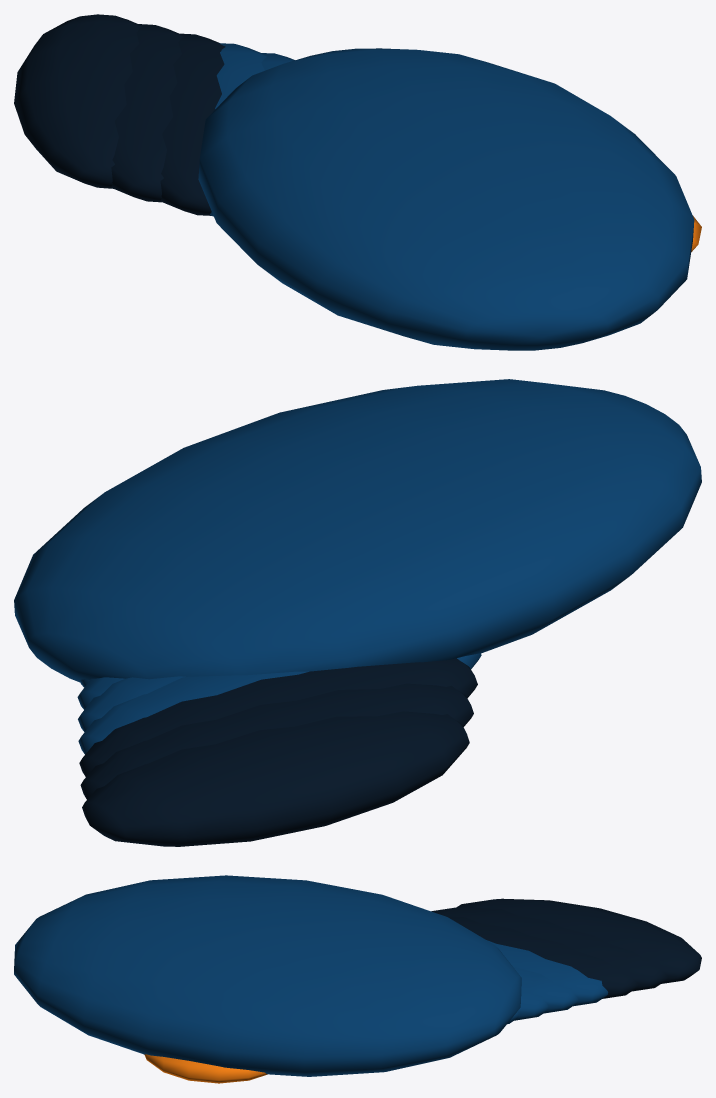
File: SM_LT_Parrot_Wing_R.obj
3 views of the same model, one above another, from view 1: azimuth 30°, elevation 25°; view 2: azimuth 150°, elevation 25°; view 3: azimuth 270°, elevation 25° (orthographic). The views are drawn at different scales.
Parts seen in each view (by area): view 1: SM_LT_Parrot_Wing_R; view 2: SM_LT_Parrot_Wing_R; view 3: SM_LT_Parrot_Wing_R.
Boxes of the visible parts, box(x1,y1,x2,y2) form: SM_LT_Parrot_Wing_R: box(14, 14, 701, 350); SM_LT_Parrot_Wing_R: box(14, 379, 701, 846); SM_LT_Parrot_Wing_R: box(14, 875, 701, 1083).
Size of the model in its own units: 23.74 by 6.51 by 42.2.
